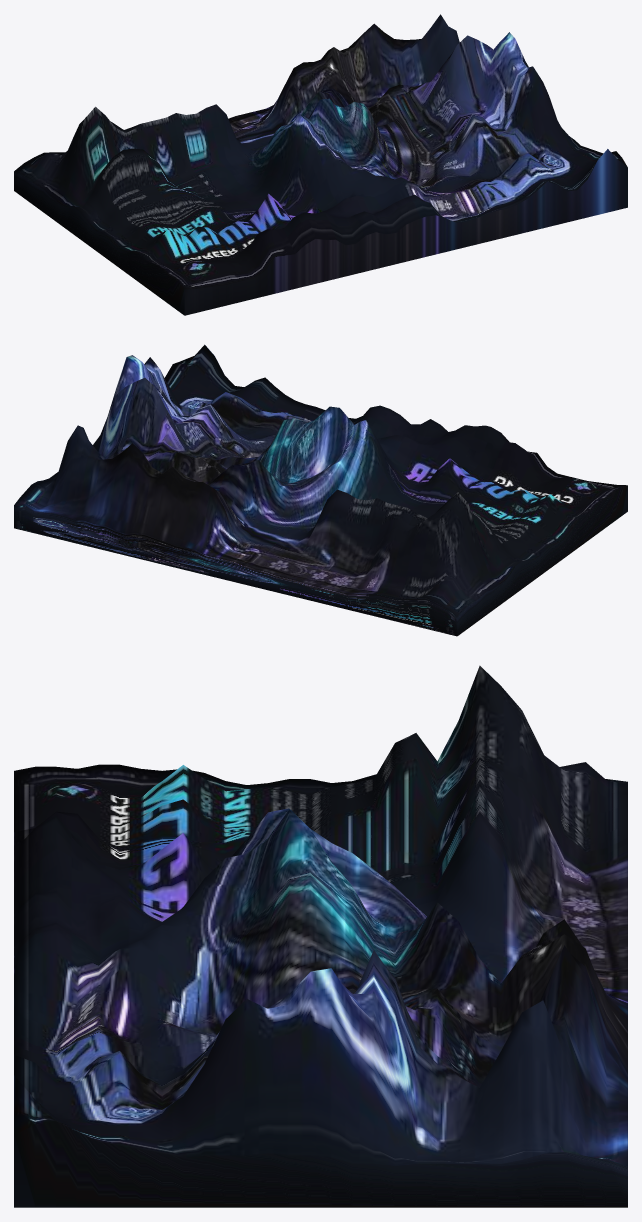
File: CAREER_10_Tool_03_Camera.glb
The picture shows the model from 3 angles, top to bottom: view 1: azimuth 30°, elevation 25°; view 2: azimuth 150°, elevation 25°; view 3: azimuth 270°, elevation 25°; orthographic projection. The views are drawn at different scales.
Parts seen in each view (by area): view 1: CAREER_10_Tool_03_Camera; view 2: CAREER_10_Tool_03_Camera; view 3: CAREER_10_Tool_03_Camera.
Boxes of the visible parts, x1,y1,x2,y2 form: CAREER_10_Tool_03_Camera: [14, 14, 627, 315]; CAREER_10_Tool_03_Camera: [14, 344, 627, 636]; CAREER_10_Tool_03_Camera: [14, 665, 627, 1207].
Bounding box in the file's own units: 2 × 0.51 × 1.33.
Materials: 1 (1 with a texture image).
